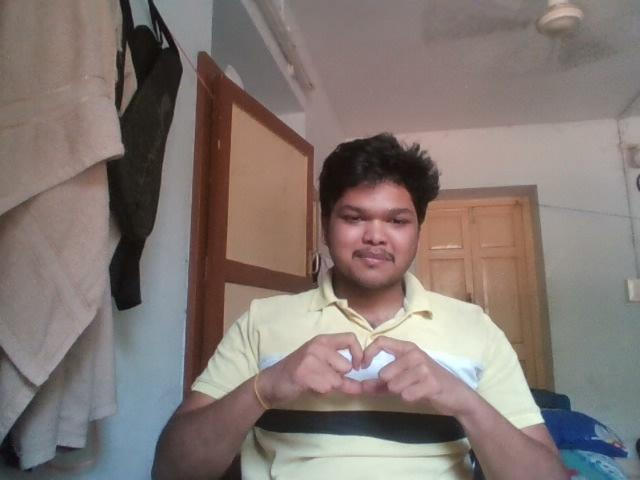I_love_u: (270, 319, 462, 439)
